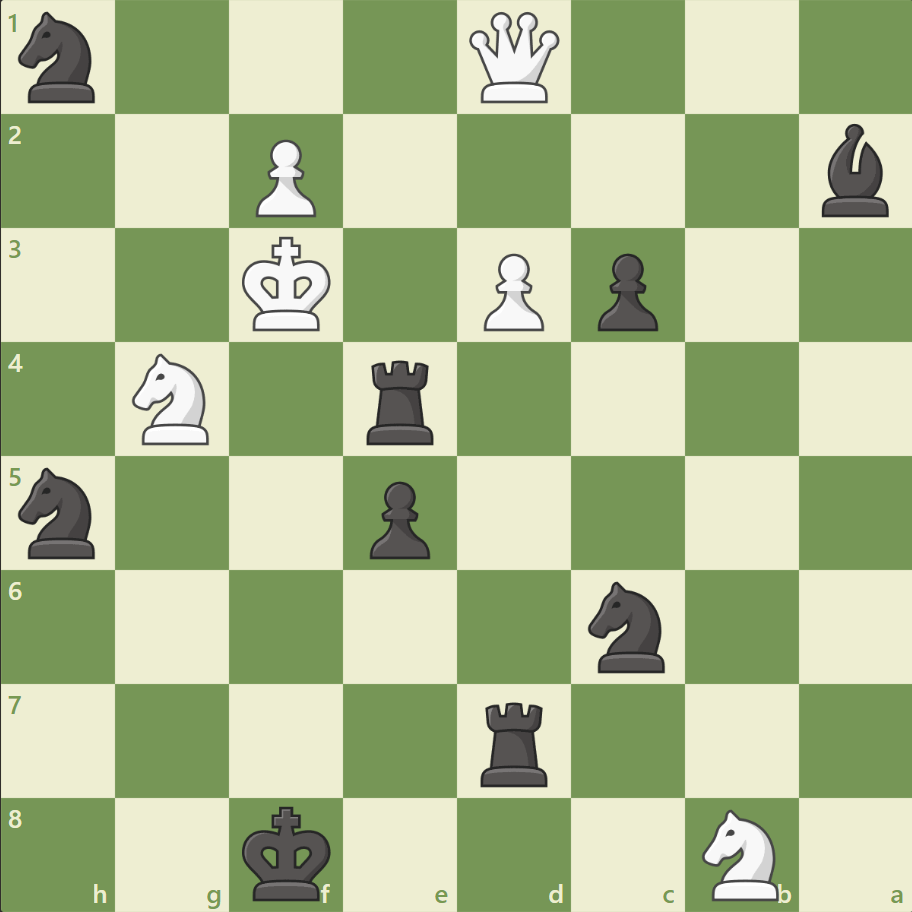K: (238, 231, 338, 339)
N: (124, 348, 222, 450), (692, 802, 789, 904)
P: (474, 246, 549, 337), (247, 132, 322, 223)
Q: (464, 9, 563, 108)
b: (812, 120, 896, 222)
k: (238, 798, 338, 906)
n: (11, 461, 108, 564), (11, 7, 108, 110), (579, 575, 676, 677)
p: (361, 473, 435, 564), (588, 246, 662, 337)
r: (473, 693, 556, 790), (360, 352, 442, 449)
